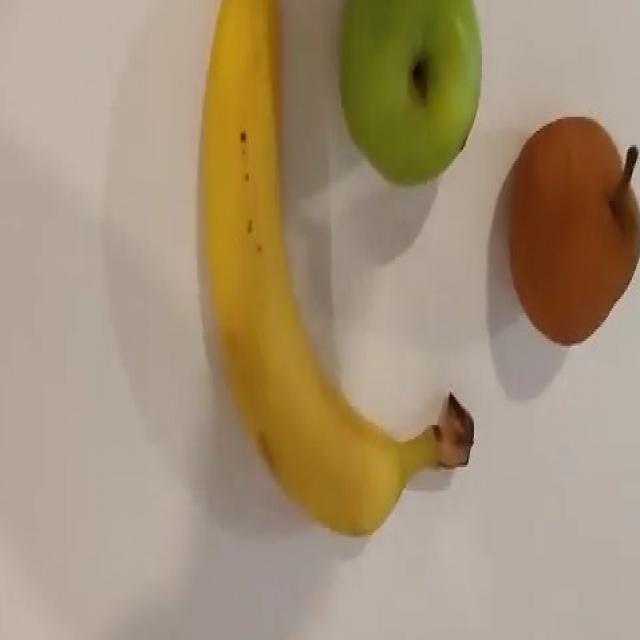Apple: (337, 0, 482, 186)
Banana: (197, 0, 475, 536)
